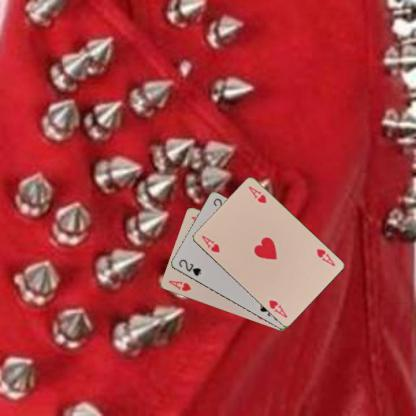2s: (176, 257, 202, 278)
Ah: (314, 246, 336, 268), (198, 233, 221, 254), (166, 278, 192, 292)
